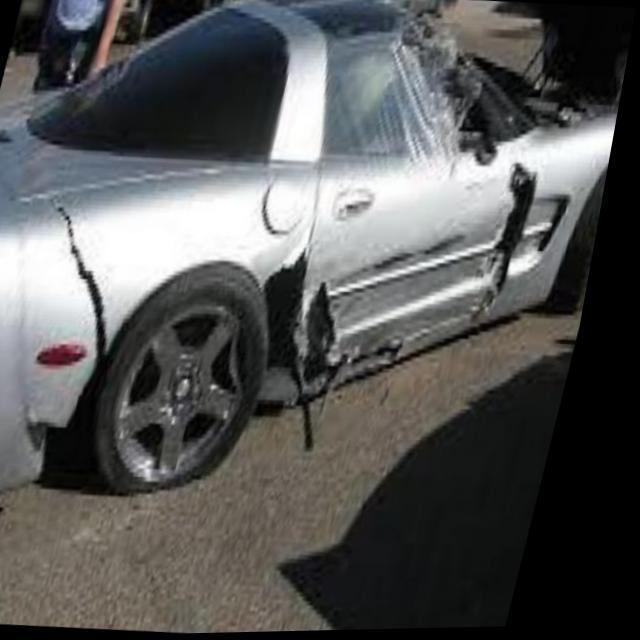crash: (31, 0, 550, 483)
